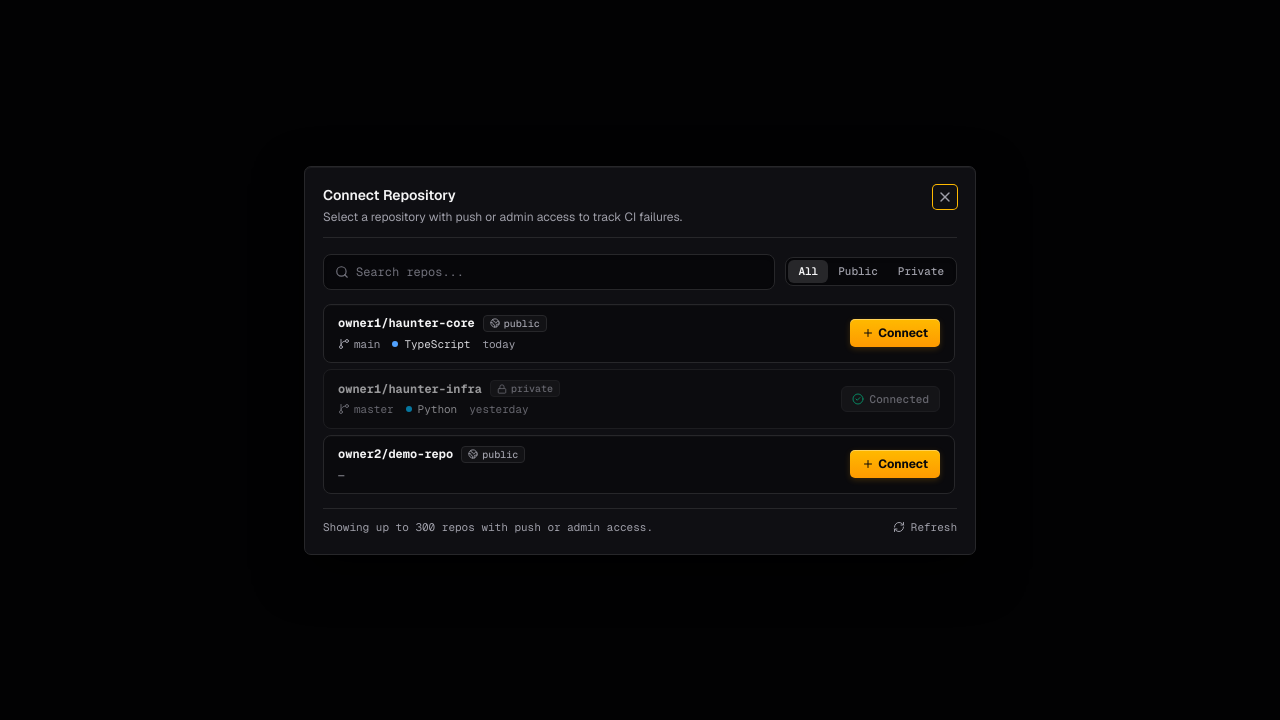
Test case: add-repo-modal.tsx › filters repositories based on search input query
Expected: the text "owner1/haunter-core" is shown, left=338, top=315, right=475, bottom=331
Type "infra" into the field with placeholder "Search repos..." at [549, 272], box left=323, top=254, right=775, bottom=290
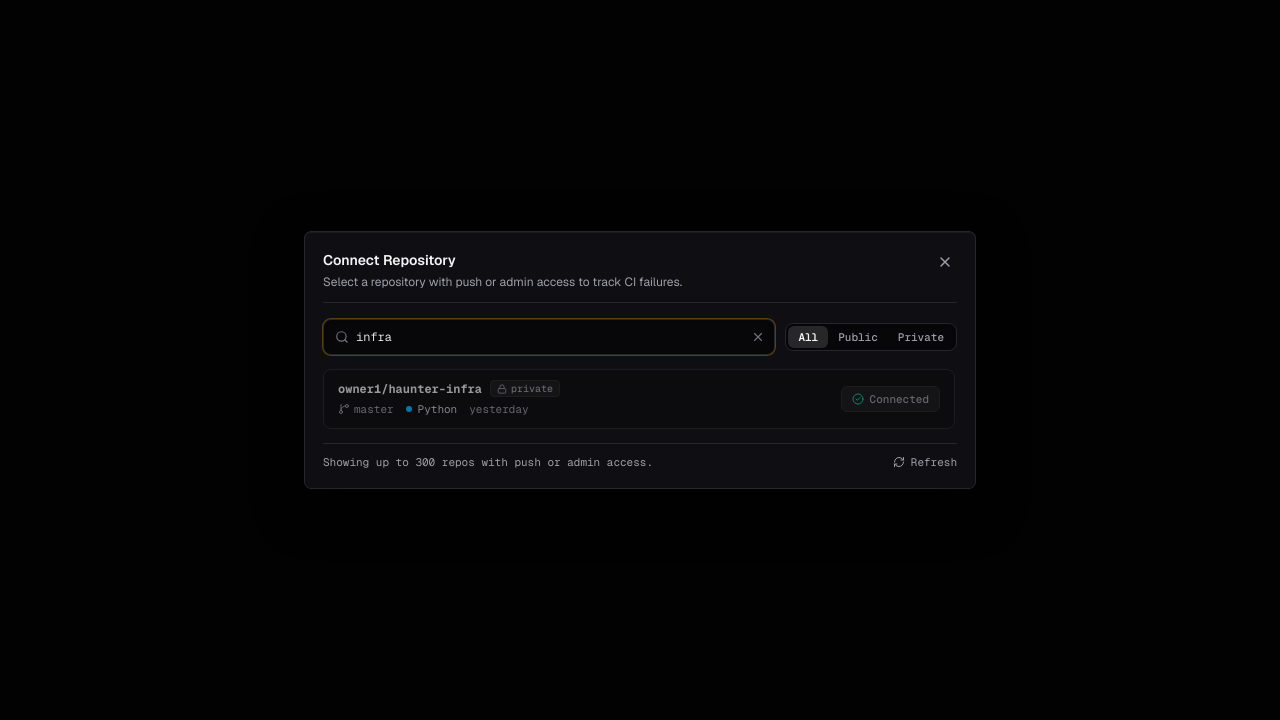
Expected: the text "owner1/haunter-infra" is shown, left=338, top=380, right=482, bottom=396
Now the text "owner1/haunter-core" is gone
Now the text "owner2/demo-repo" is gone
// Unmatched search
Clear the field with placeholder "Search repos..." at [549, 337], box left=323, top=319, right=775, bottom=355
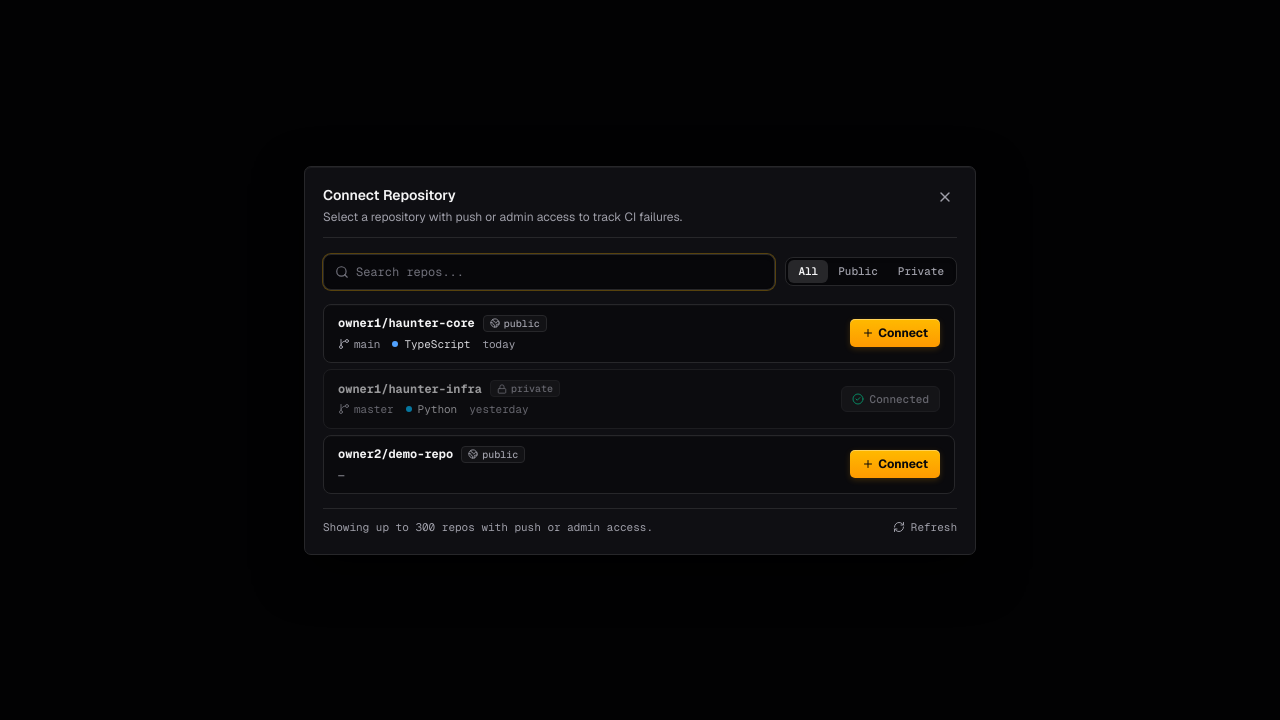
Type "nonexistent" into the field with placeholder "Search repos..." at [549, 272], box left=323, top=254, right=775, bottom=290
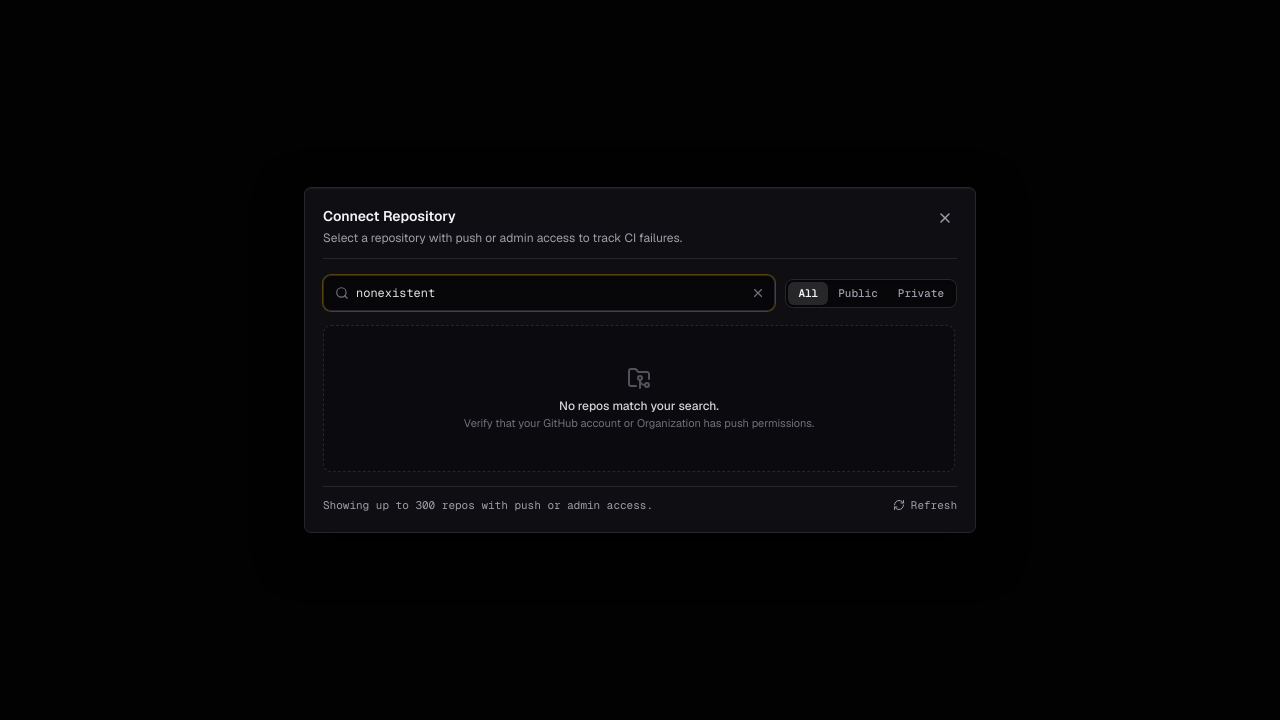
Now the text "No repos match your search." is shown, box left=559, top=398, right=719, bottom=414
